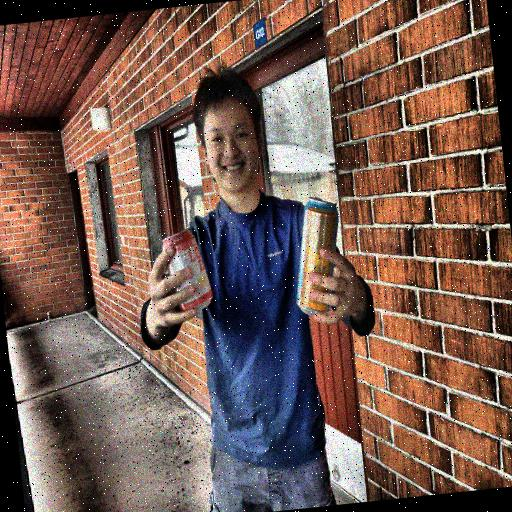koff: (153, 224, 216, 326)
